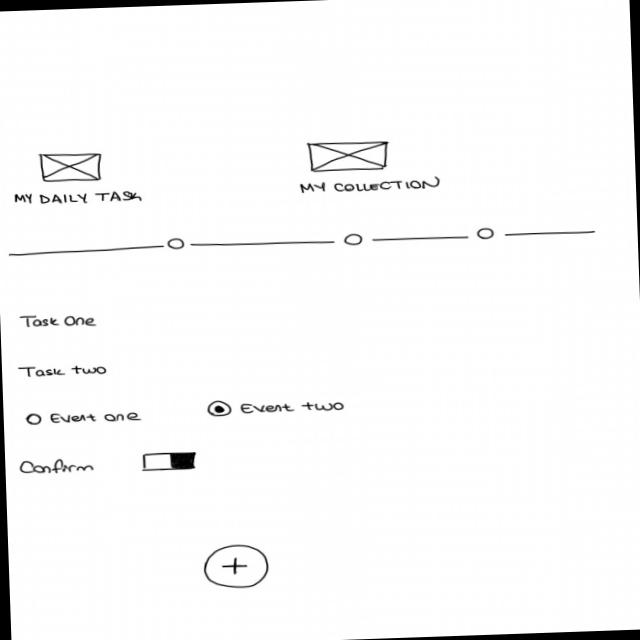icon-button: (200, 542, 271, 589)
image: (304, 139, 392, 173), (37, 150, 103, 183)
label: (10, 186, 144, 209), (298, 174, 444, 194), (17, 456, 97, 478), (16, 361, 109, 379), (16, 310, 97, 329)
radio: (204, 393, 347, 418), (23, 408, 143, 427)
toggle: (139, 450, 201, 472)
